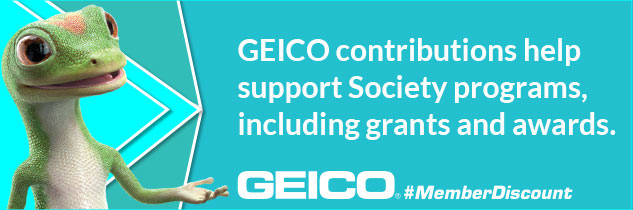geico: (233, 168, 402, 202)
